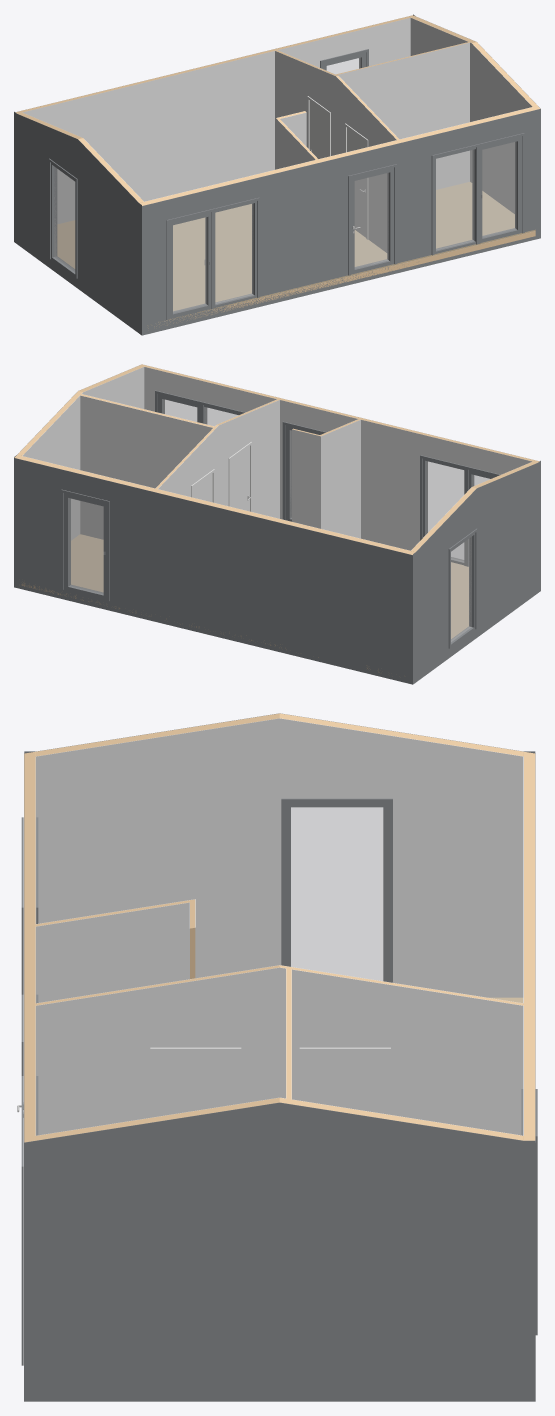
File: Airija_(5,0x9,0).fbx
3 renders of one model, top to bottom at view 1: azimuth 30°, elevation 25°; view 2: azimuth 150°, elevation 25°; view 3: azimuth 270°, elevation 25°, orthographic. The views are drawn at different scales.
Visible parts, largest first — view 1: IfcWall/Part:2319977, IfcWall/Part:2397154, IfcWall/Part:2368366, IfcSlab/Part:2319985, IfcWall/Part:2579077, IfcWall/Part:2628705, IfcWall/Part:2397151, IfcDoor/Exterior Door:1000x2100x120 (dešininės):2589422, IfcWindow/Langai (Akrusta):1000x2100x120 (kairinis):2610155, IfcWindow/Langai (Akrusta):1000x2100x120:2622451, IfcWindow/Langai (Akrusta):1000x2100x120:2622521, IfcWindow/Langai (Akrusta):1000x2100x120 (dešininis su uzd (+12 smaller); view 2: IfcWall/Part:2397155, IfcWall/Part:2368366, IfcWall/Part:2319976, IfcWall/Part:2579076, IfcWall/Part:2628705, IfcWindow/Langai (Akrusta):1000x2100x120 (dešininis su uzdar, IfcWall/Part:2628701, IfcWall/Part:2397151, IfcWindow/Langai (Akrusta):1000x2100x120:2568054, IfcSlab/Part:2319985, IfcWindow/Langai (Akrusta):1000x2100x120:2622521, IfcWall/Part:2628698 (+10 smaller); view 3: IfcWall/Part:2397152, IfcWall/Part:2368365, IfcWall/Part:2628704, IfcWall/Part:2628703, IfcWindow/Langai (Akrusta):1000x2100x120:2568054, IfcWall/Part:2628700, IfcDoor/Interior Door:800x2100 x 120 (dešininės):2622347, IfcDoor/Interior Door:800x2100 x 120 (kairinės):2399905, IfcWall/Part:2397156, IfcWall/Part:2319978, IfcWall/Part:2397153, IfcWall/Part:2368367 (+2 smaller).
Boxes of the visible parts, x1,y1,x2,y2 form: IfcWall/Part:2319977: (142,109,540,335); IfcWall/Part:2397154: (22,18,410,223); IfcWall/Part:2368366: (14,111,141,335); IfcSlab/Part:2319985: (57,182,535,318); IfcWall/Part:2579077: (337,42,469,189); IfcWall/Part:2628705: (275,51,396,252); IfcWall/Part:2397151: (410,18,532,213); IfcDoor/Exterior Door:1000x2100x120 (dešininės):2589422: (348,164,397,275); IfcWindow/Langai (Akrusta):1000x2100x120 (kairinis):2610155: (472,133,524,244); IfcWindow/Langai (Akrusta):1000x2100x120:2622451: (431,144,480,255); IfcWindow/Langai (Akrusta):1000x2100x120:2622521: (211,197,259,308); IfcWindow/Langai (Akrusta):1000x2100x120 (dešininis su uzd: (166,209,215,319); IfcWall/Part:2397155: (14,458,412,684); IfcWall/Part:2368366: (413,460,540,684); IfcWall/Part:2319976: (144,367,531,550); IfcWall/Part:2579076: (80,395,212,539); IfcWall/Part:2628705: (158,400,279,518); IfcWindow/Langai (Akrusta):1000x2100x120 (dešininis su uzdar: (61,489,109,600); IfcWall/Part:2628701: (321,420,360,538); IfcWall/Part:2397151: (22,367,144,540); IfcWindow/Langai (Akrusta):1000x2100x120:2568054: (448,528,477,648); IfcSlab/Part:2319985: (71,534,468,638); IfcWindow/Langai (Akrusta):1000x2100x120:2622521: (420,455,468,566); IfcWall/Part:2628698: (292,429,320,528); IfcWall/Part:2397152: (24,1102,535,1401); IfcWall/Part:2368365: (36,718,523,997); IfcWall/Part:2628704: (36,967,285,1135); IfcWall/Part:2628703: (292,969,523,1135); IfcWindow/Langai (Akrusta):1000x2100x120:2568054: (281,798,392,982); IfcWall/Part:2628700: (36,902,189,1002); IfcDoor/Interior Door:800x2100 x 120 (dešininės):2622347: (150,1047,241,1117); IfcDoor/Interior Door:800x2100 x 120 (kairinės):2399905: (299,1047,390,1114); IfcWall/Part:2397156: (524,752,535,1140); IfcWall/Part:2319978: (24,751,35,1137); IfcWall/Part:2397153: (24,1097,523,1142); IfcWall/Part:2368367: (35,713,523,756).
Size of the model in its own units: 902 by 322 by 509.
